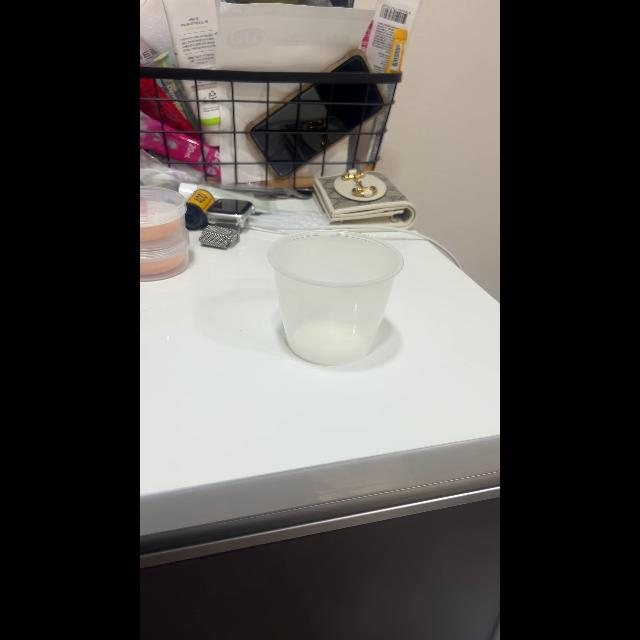clean: (266, 230, 404, 362)
